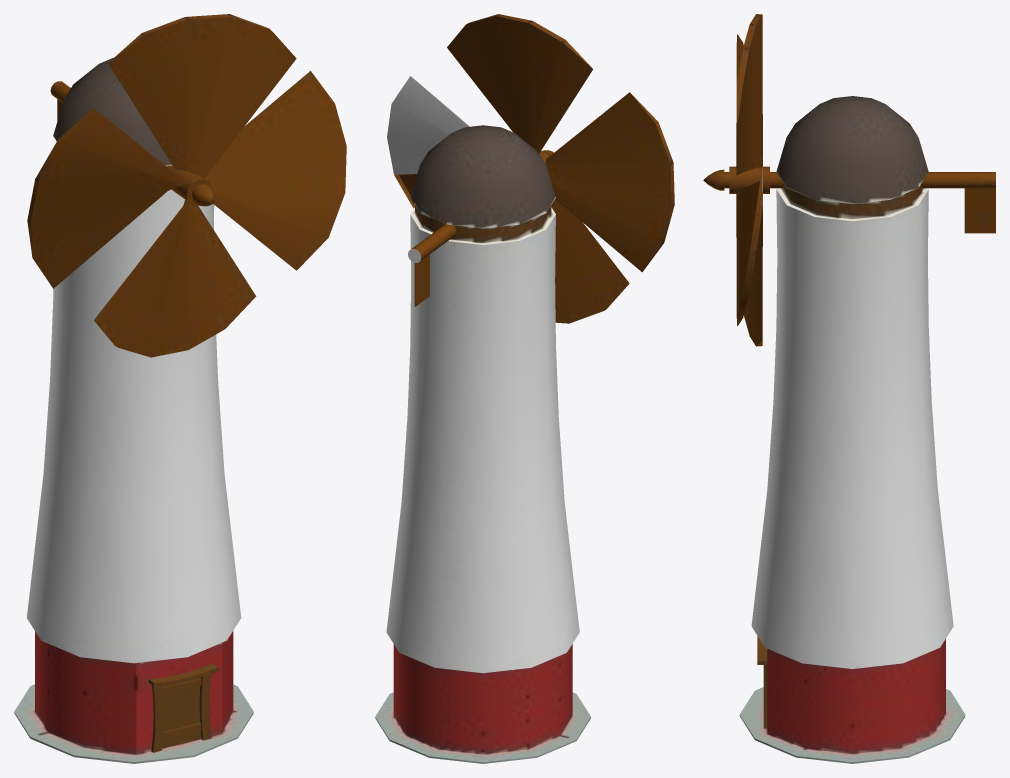
The model's file is windmill_9b061aa0.glb.
3 renders of one model, left to right at view 1: azimuth 30°, elevation 25°; view 2: azimuth 150°, elevation 25°; view 3: azimuth 270°, elevation 25°, orthographic. The views are drawn at different scales.
Parts seen in each view (by area): view 1: moinho_de_vento_0; view 2: moinho_de_vento_0; view 3: moinho_de_vento_0.
Boxes of the visible parts, bbox=[...] form: moinho_de_vento_0: bbox=[14, 14, 346, 763]; moinho_de_vento_0: bbox=[375, 14, 674, 763]; moinho_de_vento_0: bbox=[703, 14, 995, 763].
Bounding box in the file's own units: 3.4 × 7.55 × 2.9.
Materials: 1 (1 with a texture image).
